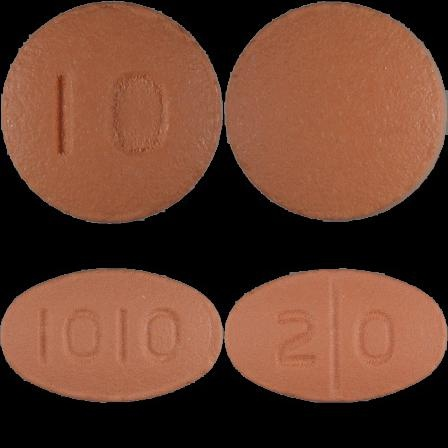0904-6084: (0, 0, 224, 224)
